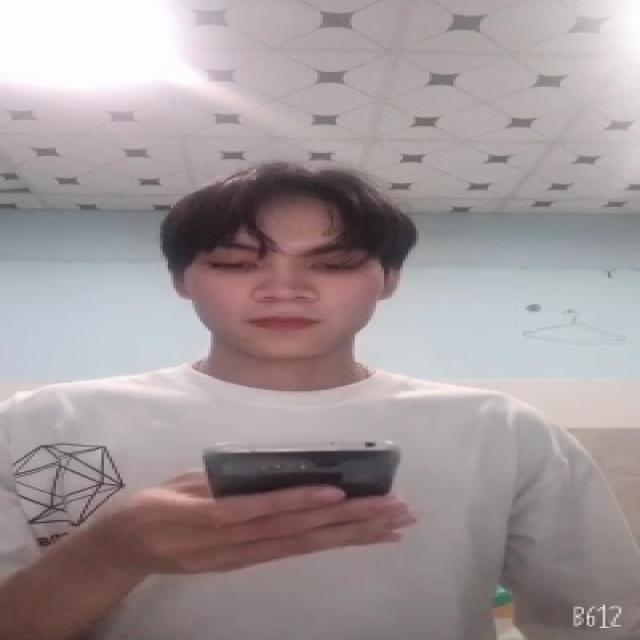Phone: (202, 437, 405, 503)
